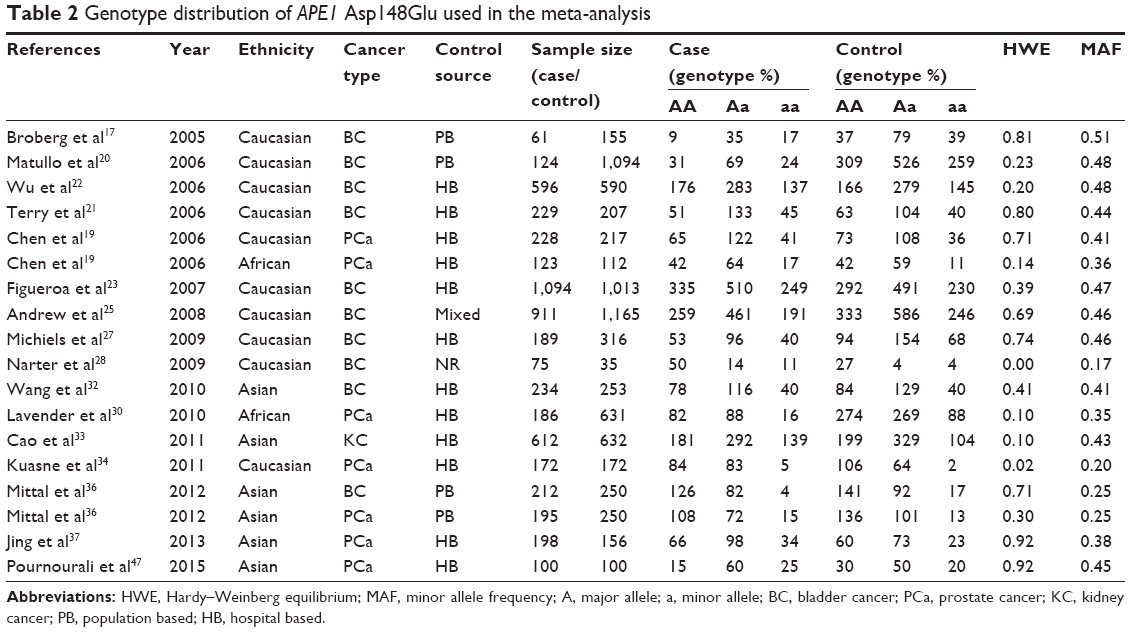table: (3, 26, 1129, 587)
